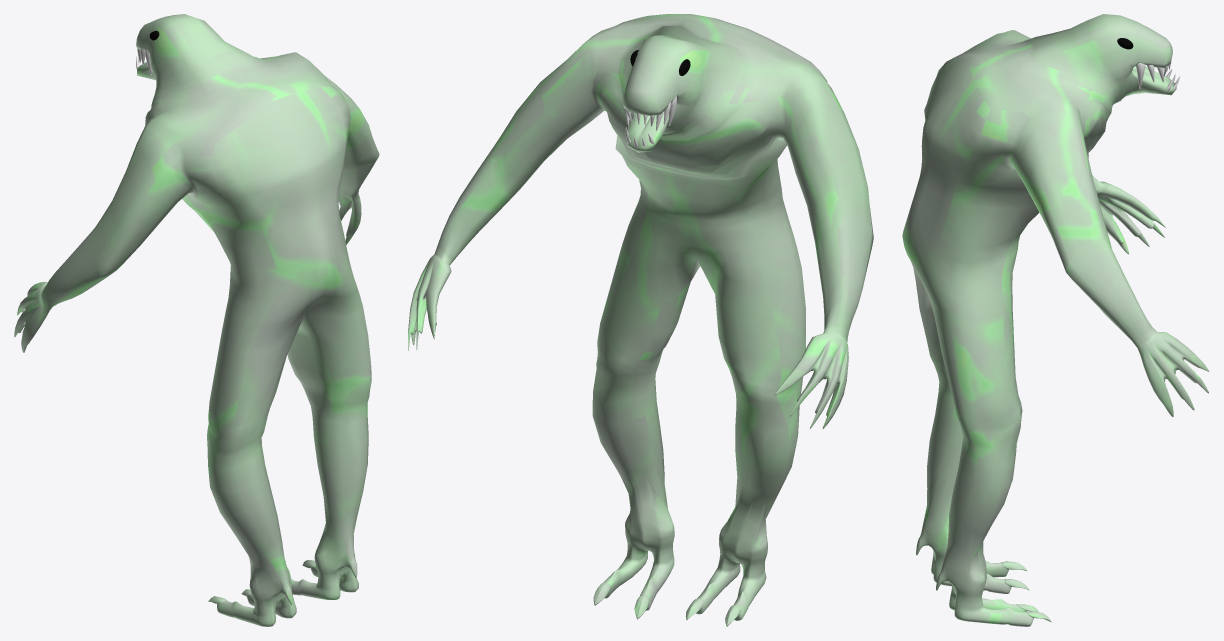
The model's file is Berserkeraranar.0060.obj.
3 renders of one model, left to right at view 1: azimuth 30°, elevation 25°; view 2: azimuth 150°, elevation 25°; view 3: azimuth 270°, elevation 25°, orthographic. The views are drawn at different scales.
Visible parts, largest first — view 1: polySurface27; view 2: polySurface27; view 3: polySurface27.
Boxes of the visible parts, box(x1,y1,x2,y2) form: polySurface27: box(14, 14, 379, 626); polySurface27: box(408, 14, 873, 626); polySurface27: box(902, 14, 1209, 626).
Size of the model in its own units: 15.67 by 23.32 by 11.44.
1 material, 1 textured.
